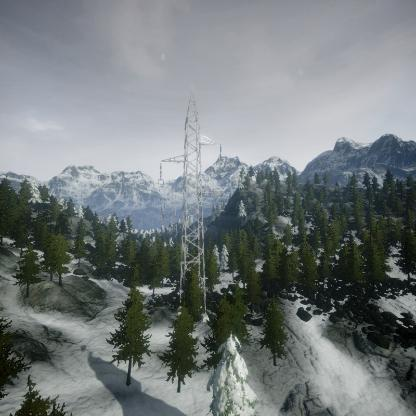tower: (156, 88, 224, 322)
